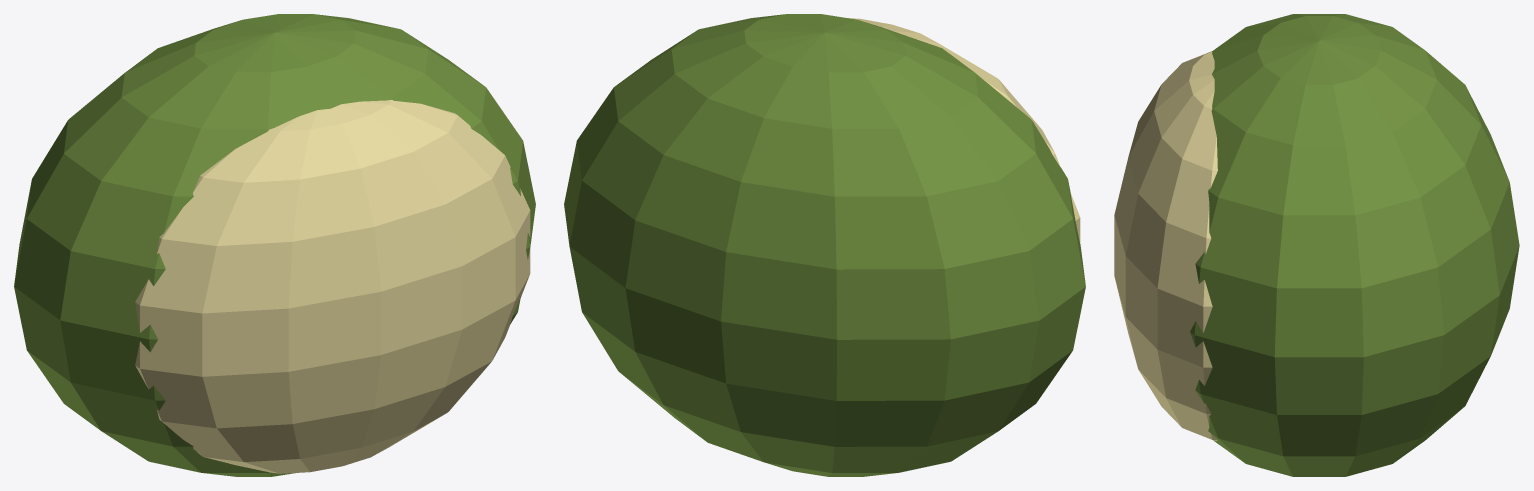
File: pondkin_belly.glb
3 renders of one model, left to right at view 1: azimuth 30°, elevation 25°; view 2: azimuth 150°, elevation 25°; view 3: azimuth 270°, elevation 25°, orthographic. The views are drawn at different scales.
Visible parts, largest first — view 1: pondkin_belly; view 2: pondkin_belly; view 3: pondkin_belly.
Part boxes in pixels (x1=…): pondkin_belly: x1=14, y1=14, x2=535, y2=476; pondkin_belly: x1=564, y1=14, x2=1085, y2=476; pondkin_belly: x1=1114, y1=14, x2=1519, y2=476.
Size of the model in its own units: 0.8189 by 0.7 by 0.6273.
